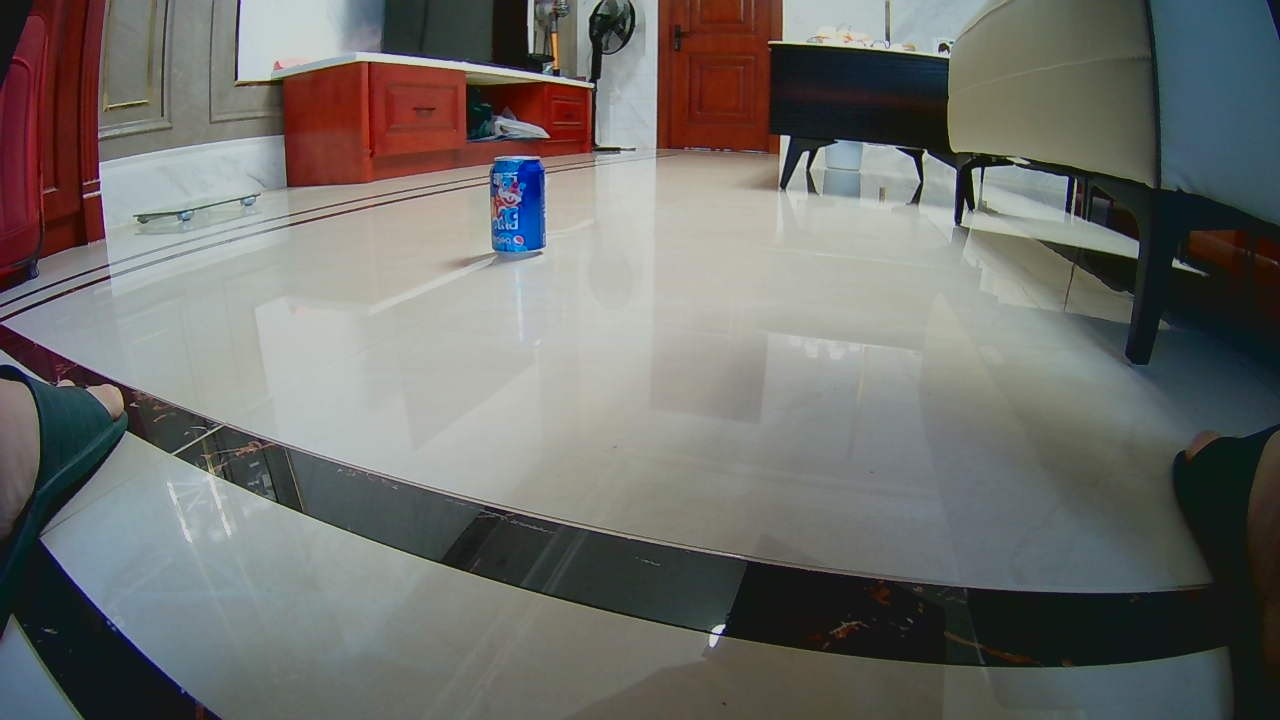pessi: (489, 156, 547, 258)
